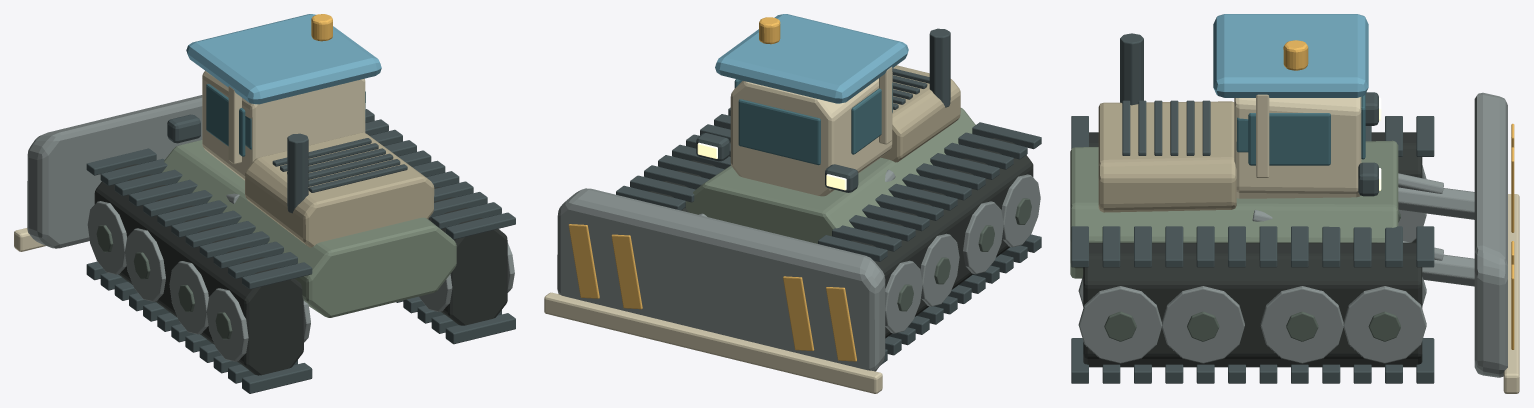
Rendered from dozer.glb.
3 views of the same model, side by side, from view 1: azimuth 30°, elevation 25°; view 2: azimuth 150°, elevation 25°; view 3: azimuth 270°, elevation 25° (orthographic). The views are drawn at different scales.
Parts seen in each view (by area): view 1: body; view 2: body; view 3: body.
Part boxes in pixels (<box>): body: <box>14,14,515,393</box>; body: <box>544,14,1041,393</box>; body: <box>1070,14,1519,393</box>.
Bounding box in the file's own units: 3.5 × 2.59 × 3.64.
